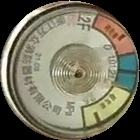green: (115, 54, 138, 92)
needle: (104, 79, 131, 90)
red: (96, 15, 136, 54)
yellow: (83, 86, 133, 128)
